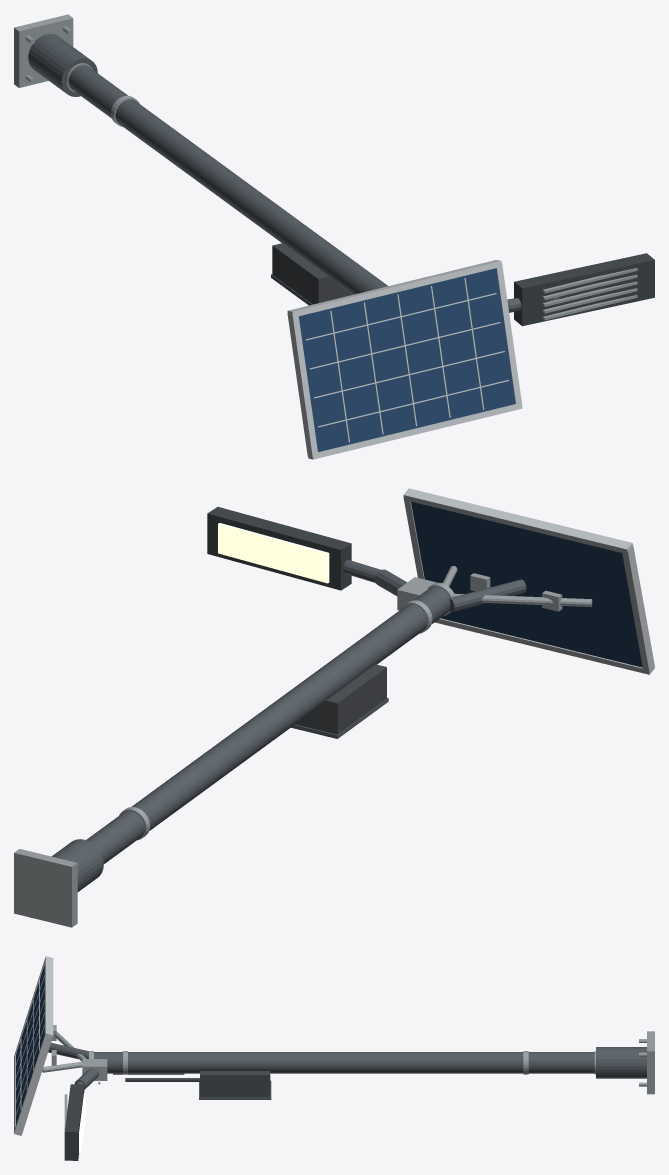
The model's file is streetlight_solar.glb.
3 views of the same model, one above another, from view 1: azimuth 30°, elevation 25°; view 2: azimuth 150°, elevation 25°; view 3: azimuth 270°, elevation 25° (orthographic). The views are drawn at different scales.
Visible parts, largest first — view 1: Solar panel glass, Main tapered pole, LED lamp housing, Battery enclosure, Widened pole foot, Anchor base plate, Panel end frame 0.49, Panel side frame -0.79, Panel end frame -0.49, Panel side frame 0.79; view 2: Solar panel glass, Main tapered pole, Anchor base plate, LED lamp housing, LED diffuser, Battery enclosure, Panel end frame 0.49, Panel side frame -0.79, Widened pole foot, Panel end frame -0.49, Panel support mast, Panel rear brace (+1 smaller); view 3: Main tapered pole, Solar panel glass, Battery enclosure, Widened pole foot, LED lamp housing, Panel side frame 0.79, Panel end frame 0.49, Anchor base plate, Lamp arm mounting bracket, Panel support mast.
Part boxes in pixels (bbox=[...]): Solar panel glass: bbox=[298, 268, 515, 451]; Main tapered pole: bbox=[68, 65, 388, 294]; LED lamp housing: bbox=[514, 253, 654, 326]; Battery enclosure: bbox=[272, 243, 352, 304]; Widened pole foot: bbox=[28, 33, 97, 96]; Anchor base plate: bbox=[14, 14, 73, 87]; Panel end frame 0.49: bbox=[287, 260, 501, 317]; Panel side frame -0.79: bbox=[287, 313, 318, 457]; Panel end frame -0.49: bbox=[308, 403, 522, 459]; Panel side frame 0.79: bbox=[496, 263, 522, 407]; Solar panel glass: bbox=[411, 501, 642, 667]; Main tapered pole: bbox=[86, 586, 450, 864]; Anchor base plate: bbox=[14, 849, 77, 927]; LED lamp housing: bbox=[207, 507, 351, 590]; LED diffuser: bbox=[218, 523, 329, 583]; Battery enclosure: bbox=[295, 664, 386, 734]; Panel end frame 0.49: bbox=[403, 488, 632, 552]; Panel side frame -0.79: bbox=[621, 545, 654, 672]; Widened pole foot: bbox=[51, 839, 103, 891]; Panel end frame -0.49: bbox=[435, 618, 654, 674]; Panel support mast: bbox=[449, 579, 526, 611]; Panel rear brace: bbox=[454, 593, 592, 606]; Main tapered pole: bbox=[88, 1052, 594, 1073]; Solar panel glass: bbox=[16, 965, 44, 1124]; Battery enclosure: bbox=[200, 1071, 270, 1097]; Widened pole foot: bbox=[596, 1047, 646, 1078]; LED lamp housing: bbox=[64, 1084, 84, 1160]; Panel side frame 0.79: bbox=[14, 1034, 52, 1134]; Panel end frame 0.49: bbox=[44, 956, 53, 1036]; Anchor base plate: bbox=[647, 1031, 654, 1094]; Lamp arm mounting bracket: bbox=[82, 1059, 107, 1080]; Panel support mast: bbox=[48, 1042, 88, 1059].
Bounding box in the file's own units: 2.91 × 0.9998 × 5.66.
